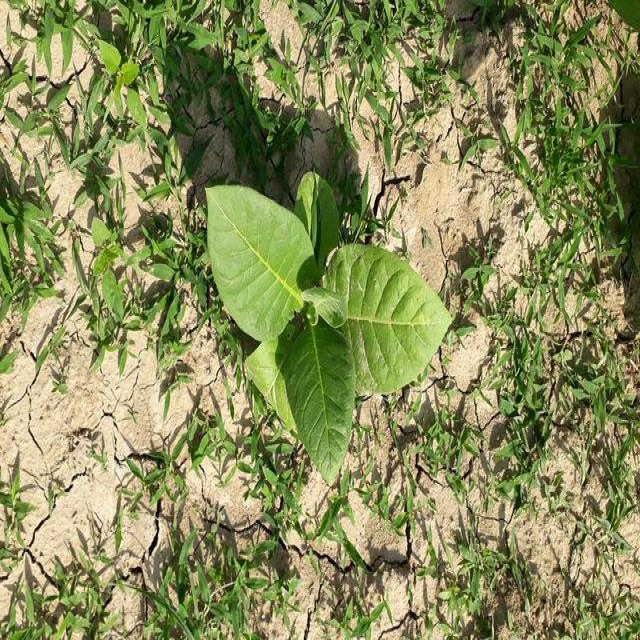crop: (202, 166, 458, 494)
